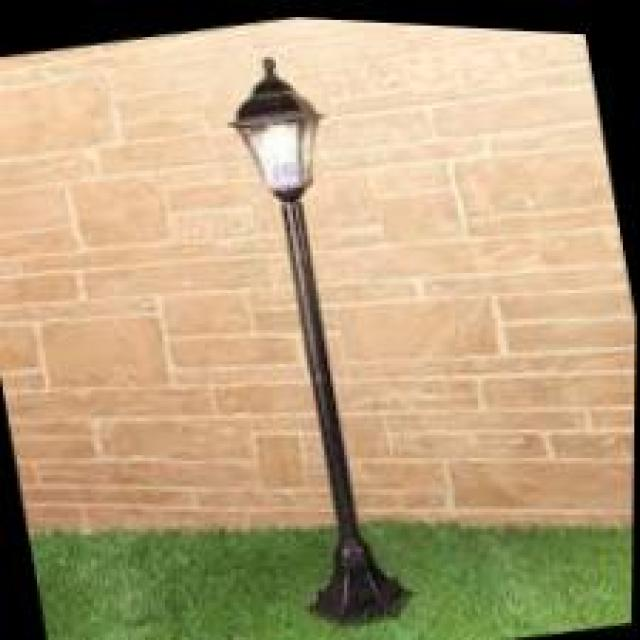pole: (265, 224, 422, 620)
